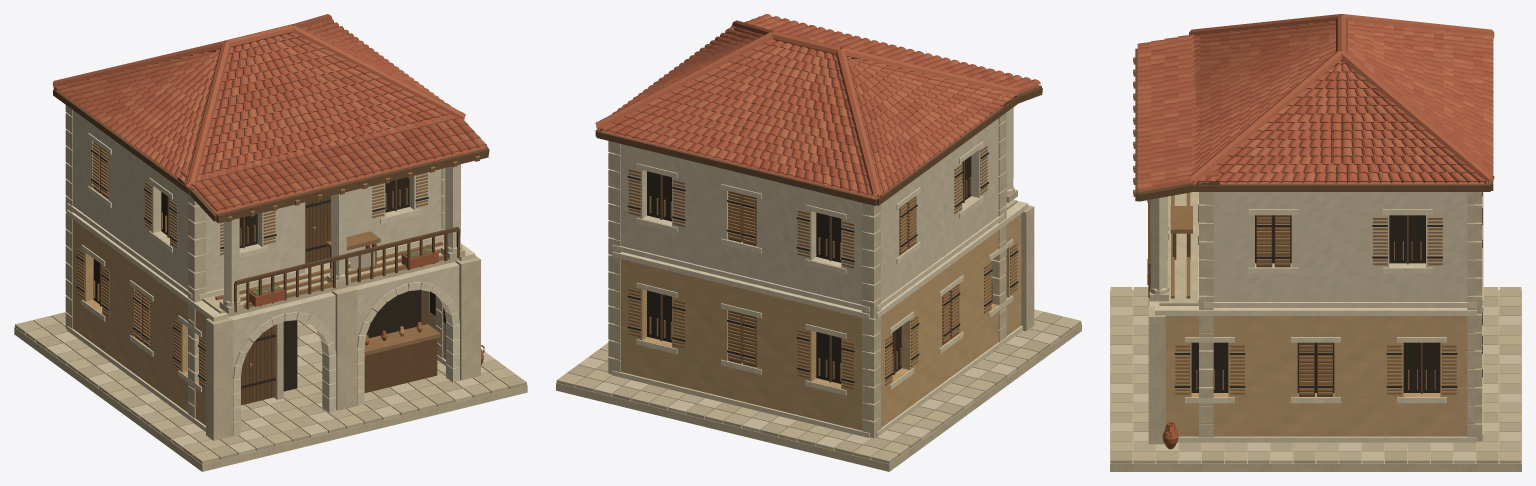
Rendered from verona_townhouse.glb.
The picture shows the model from 3 angles, left to right: view 1: azimuth 30°, elevation 25°; view 2: azimuth 150°, elevation 25°; view 3: azimuth 270°, elevation 25°; orthographic projection. The views are drawn at different scales.
Visible parts, largest first — view 1: Tile_0.001, Limewash.001, Travertine.001, Travertine.002, Tile_1.001, Warm_ochre.001, Oak.001, Limewash.002, Limestone_trim.001, Oak.002, Oak_edge.001, Tile_5.001 (+17 smaller); view 2: Limewash.001, Warm_ochre.001, Warm_ochre.002, Tile_0.001, Limewash.002, Tile_1.001, Travertine.001, Oak_edge.001, Travertine.002, Limestone_trim.002, Limestone_trim.001, Tile_5.001 (+15 smaller); view 3: Tile_0.001, Warm_ochre.001, Limewash.001, Tile_1.001, Travertine.001, Travertine.002, Warm_ochre.002, Tile_5.001, Limestone_trim.001, Limewash.002, Oak_edge.001, Limestone_trim.002 (+15 smaller).
Part boxes in pixels (x1,y1,x2,y2): Tile_0.001: (64, 19, 480, 211); Limewash.001: (70, 110, 461, 375); Travertine.001: (15, 108, 479, 469); Travertine.002: (14, 105, 527, 471); Tile_1.001: (52, 14, 478, 204); Warm_ochre.001: (70, 219, 446, 425); Oak.001: (53, 89, 489, 404); Limewash.002: (70, 114, 445, 290); Limestone_trim.001: (67, 133, 474, 435); Oak.002: (93, 142, 459, 405); Oak_edge.001: (77, 143, 480, 387); Tile_5.001: (55, 24, 460, 202); Limewash.001: (616, 118, 1014, 304); Warm_ochre.001: (615, 248, 1015, 430); Warm_ochre.002: (615, 214, 1021, 430); Tile_0.001: (596, 16, 1040, 194); Limewash.002: (615, 134, 1001, 304); Tile_1.001: (596, 16, 1034, 198); Travertine.001: (557, 115, 1033, 469); Oak_edge.001: (628, 145, 1017, 389); Travertine.002: (556, 112, 1081, 471); Limestone_trim.002: (612, 141, 1028, 437); Limestone_trim.001: (612, 142, 1027, 436); Tile_5.001: (627, 20, 1004, 196); Tile_0.001: (1137, 21, 1493, 187); Warm_ochre.001: (1165, 316, 1473, 436); Limewash.001: (1150, 192, 1473, 306); Tile_1.001: (1137, 14, 1494, 184); Travertine.001: (1112, 192, 1519, 470); Travertine.002: (1110, 192, 1521, 471); Warm_ochre.002: (1165, 319, 1474, 436); Tile_5.001: (1137, 21, 1493, 182); Limestone_trim.001: (1149, 196, 1482, 441); Limewash.002: (1206, 192, 1474, 301); Oak_edge.001: (1133, 57, 1456, 394); Limestone_trim.002: (1155, 192, 1483, 442).
Size of the model in its own units: 9.2 by 8.71 by 9.2.
28 materials, 8 textured.
